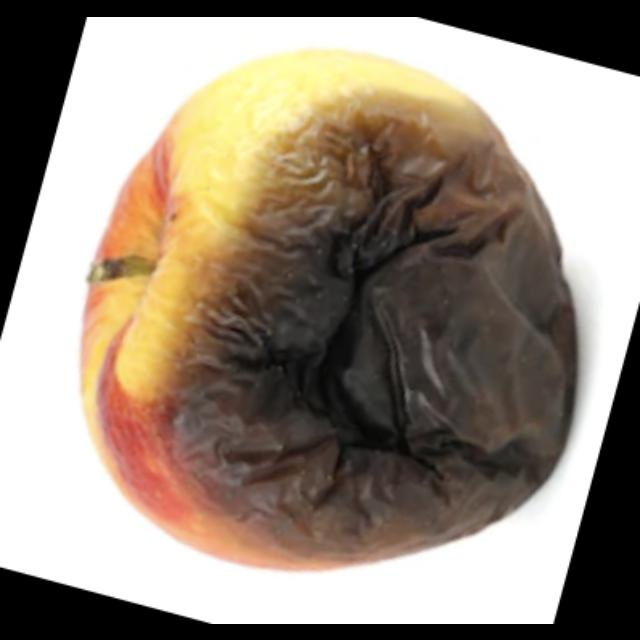Apel Tidak Segar: (51, 39, 610, 586)
